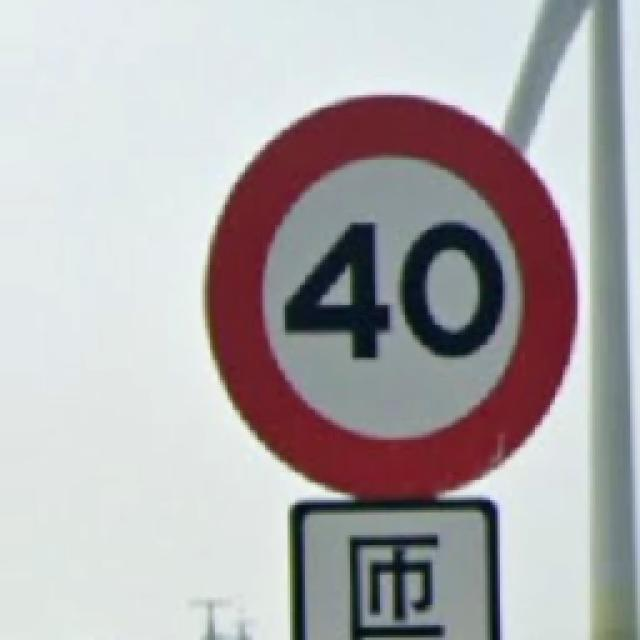Speed Limit -40-: (210, 98, 575, 495)
